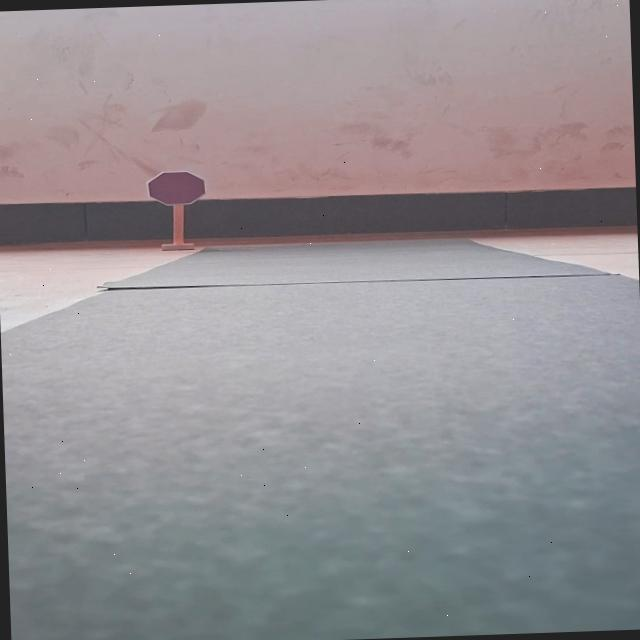Stop: (146, 170, 206, 207)
